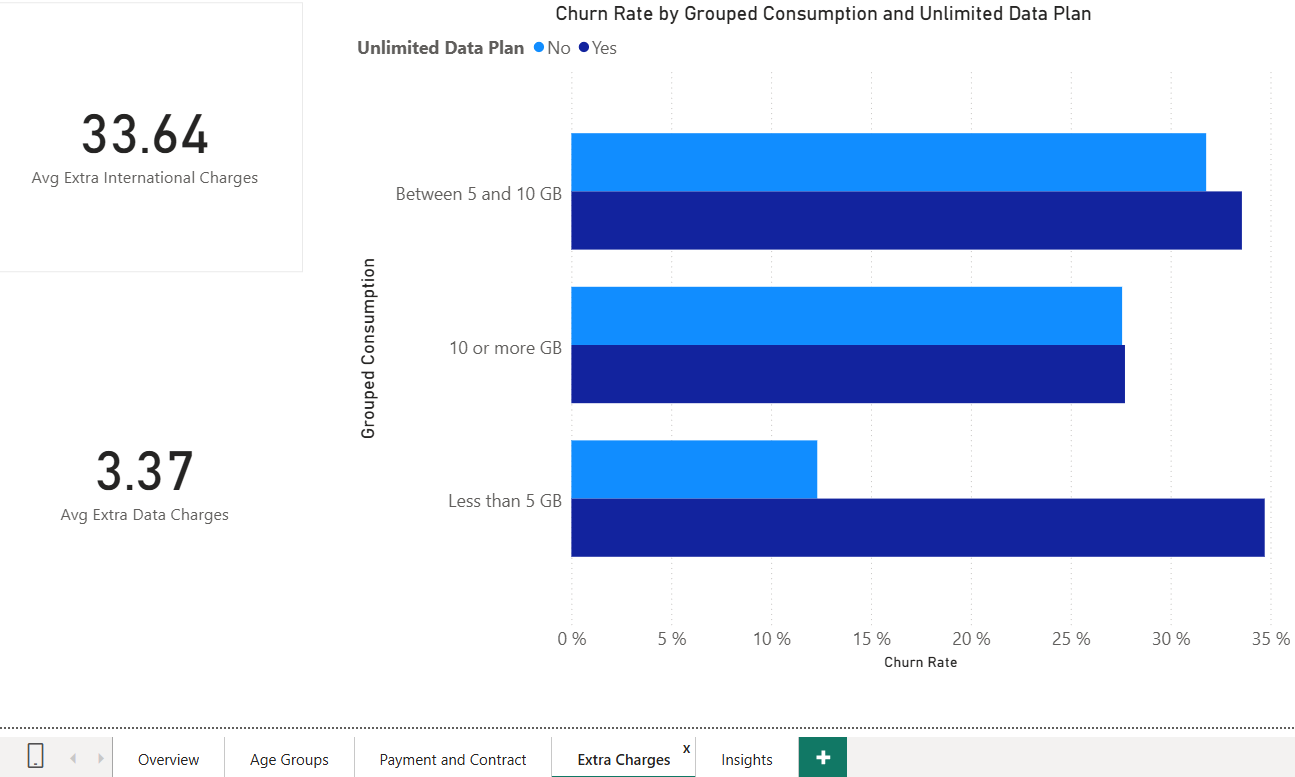

The dashboard page shown, as its layout file describes it:
{"tool":"powerbi","page":{"name":"Extra Charges","canvas":[1280,720],"ordinal":8},"visuals":[{"type":"clusteredBarChart","fields":{"Category":["Databel - Data.Grouped Consumption"],"Y":["Databel - Data.Churn Rate"],"Series":["Databel - Data.Unlimited Data Plan"]},"box":[357.3,10.9,922.7,658.6],"z":0},{"type":"card","fields":{"Values":["Databel - Data.Avg Extra International Charges"]},"box":[0,10.7,309.3,264.9],"z":1000},{"type":"card","fields":{"Values":["Databel - Data.Avg Extra Data Charges"]},"box":[0,276,309,394],"z":2000}]}

Visuals, with their boxes on the page's 1280x720 design canvas (x1, y1, x2, y2). These are canvas units, not pixel positions in the 1295x777 screenshot, which may show the page scaled, cropped or inside an application window:
clusteredBarChart - Databel - Data.Grouped Consumption x Databel - Data.Churn Rate: 357:11:1280:670
card - Databel - Data.Avg Extra International Charges: 0:11:309:276
card - Databel - Data.Avg Extra Data Charges: 0:276:309:670
